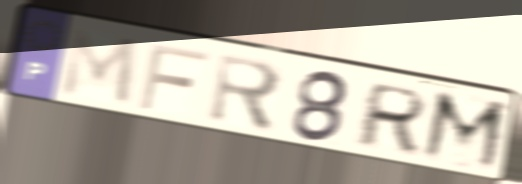8: (289, 68, 350, 145)
F: (135, 40, 212, 113)
M: (417, 87, 513, 177), (58, 25, 142, 110)
R: (205, 50, 286, 137), (351, 80, 432, 155)
